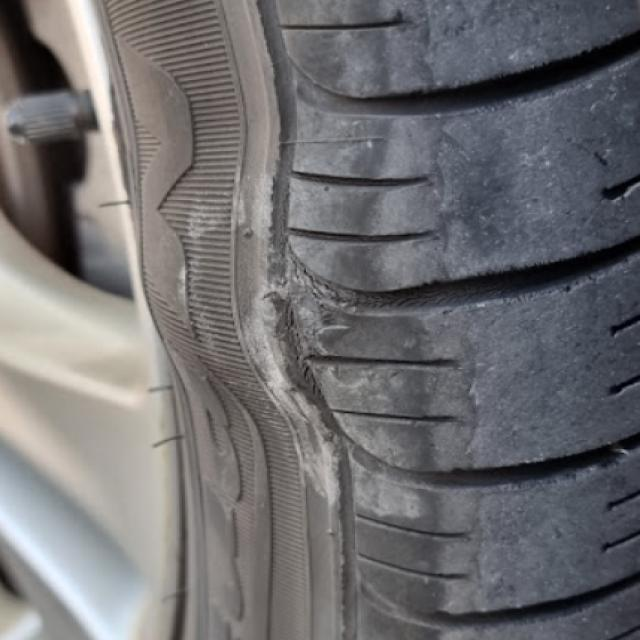Bulge: (123, 132, 352, 418)
